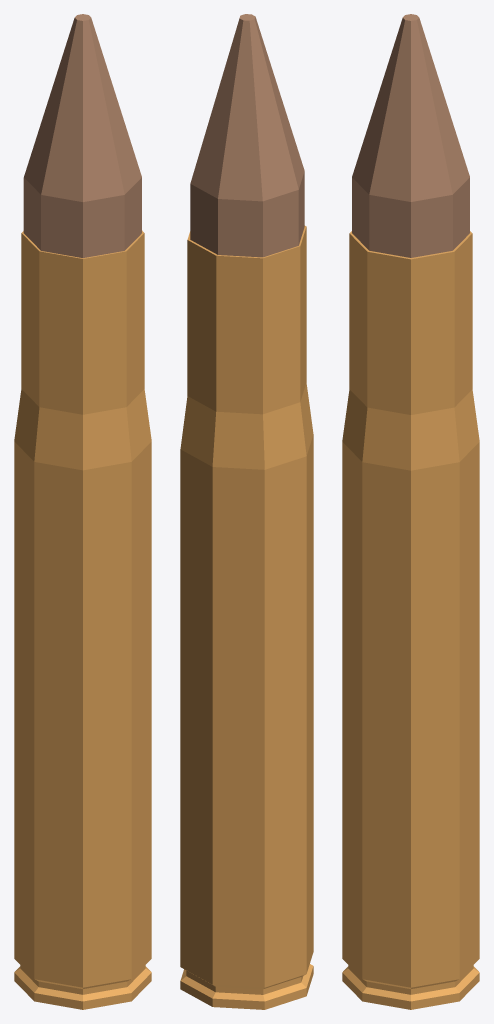
The model's file is rifle_bullet.fbx.
The picture shows the model from 3 angles, left to right: view 1: azimuth 90°, elevation 25°; view 2: azimuth 150°, elevation 25°; view 3: azimuth 270°, elevation 25°; orthographic projection.
Visible parts, largest first — view 1: .30-06 Springfield; view 2: .30-06 Springfield; view 3: .30-06 Springfield.
Boxes of the visible parts, bbox=[...] form: .30-06 Springfield: bbox=[14, 14, 151, 1009]; .30-06 Springfield: bbox=[180, 14, 313, 1009]; .30-06 Springfield: bbox=[342, 14, 479, 1009].
Size of the model in its own units: 0.0226 by 0.1743 by 0.0226.
